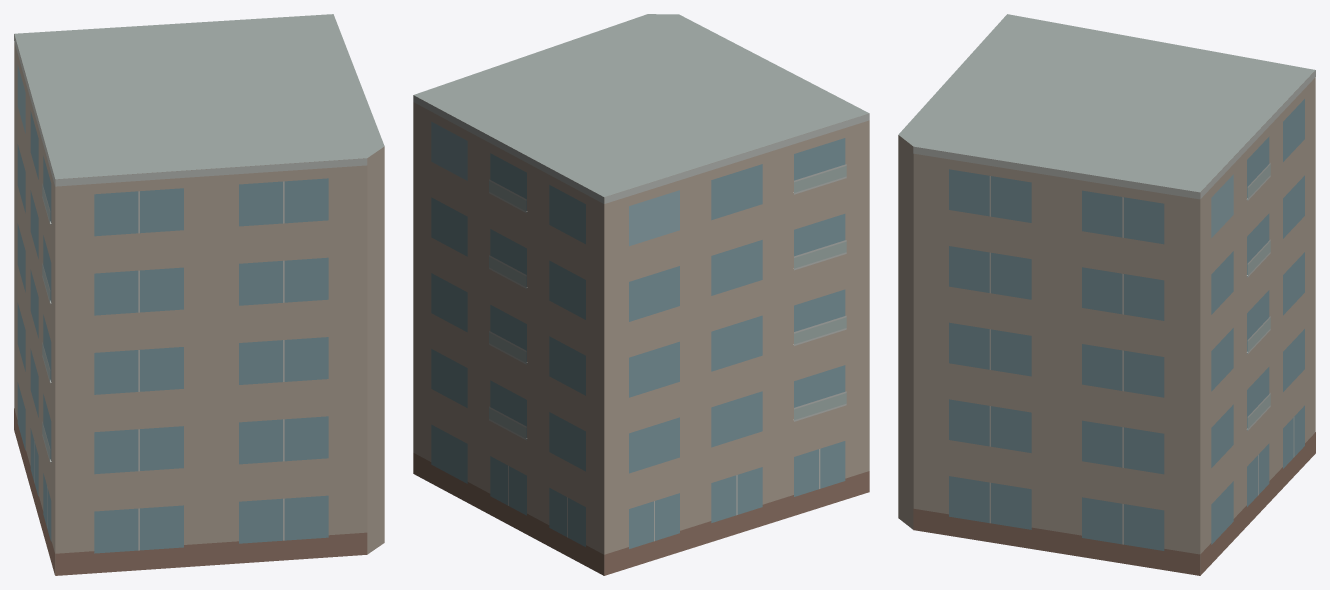
Rendered from survey-upis-32535118.glb.
3 renders of one model, left to right at view 1: azimuth 30°, elevation 25°; view 2: azimuth 150°, elevation 25°; view 3: azimuth 270°, elevation 25°, orthographic. The views are drawn at different scales.
Parts seen in each view (by area): view 1: survey-upis-32535118.tmp; view 2: survey-upis-32535118.tmp; view 3: survey-upis-32535118.tmp.
Boxes of the visible parts, x1,y1,x2,y2 form: survey-upis-32535118.tmp: (14,14,384,575); survey-upis-32535118.tmp: (413,14,869,575); survey-upis-32535118.tmp: (898,14,1315,575).
Bounding box in the file's own units: 13.28 × 13.3 × 13.13.
